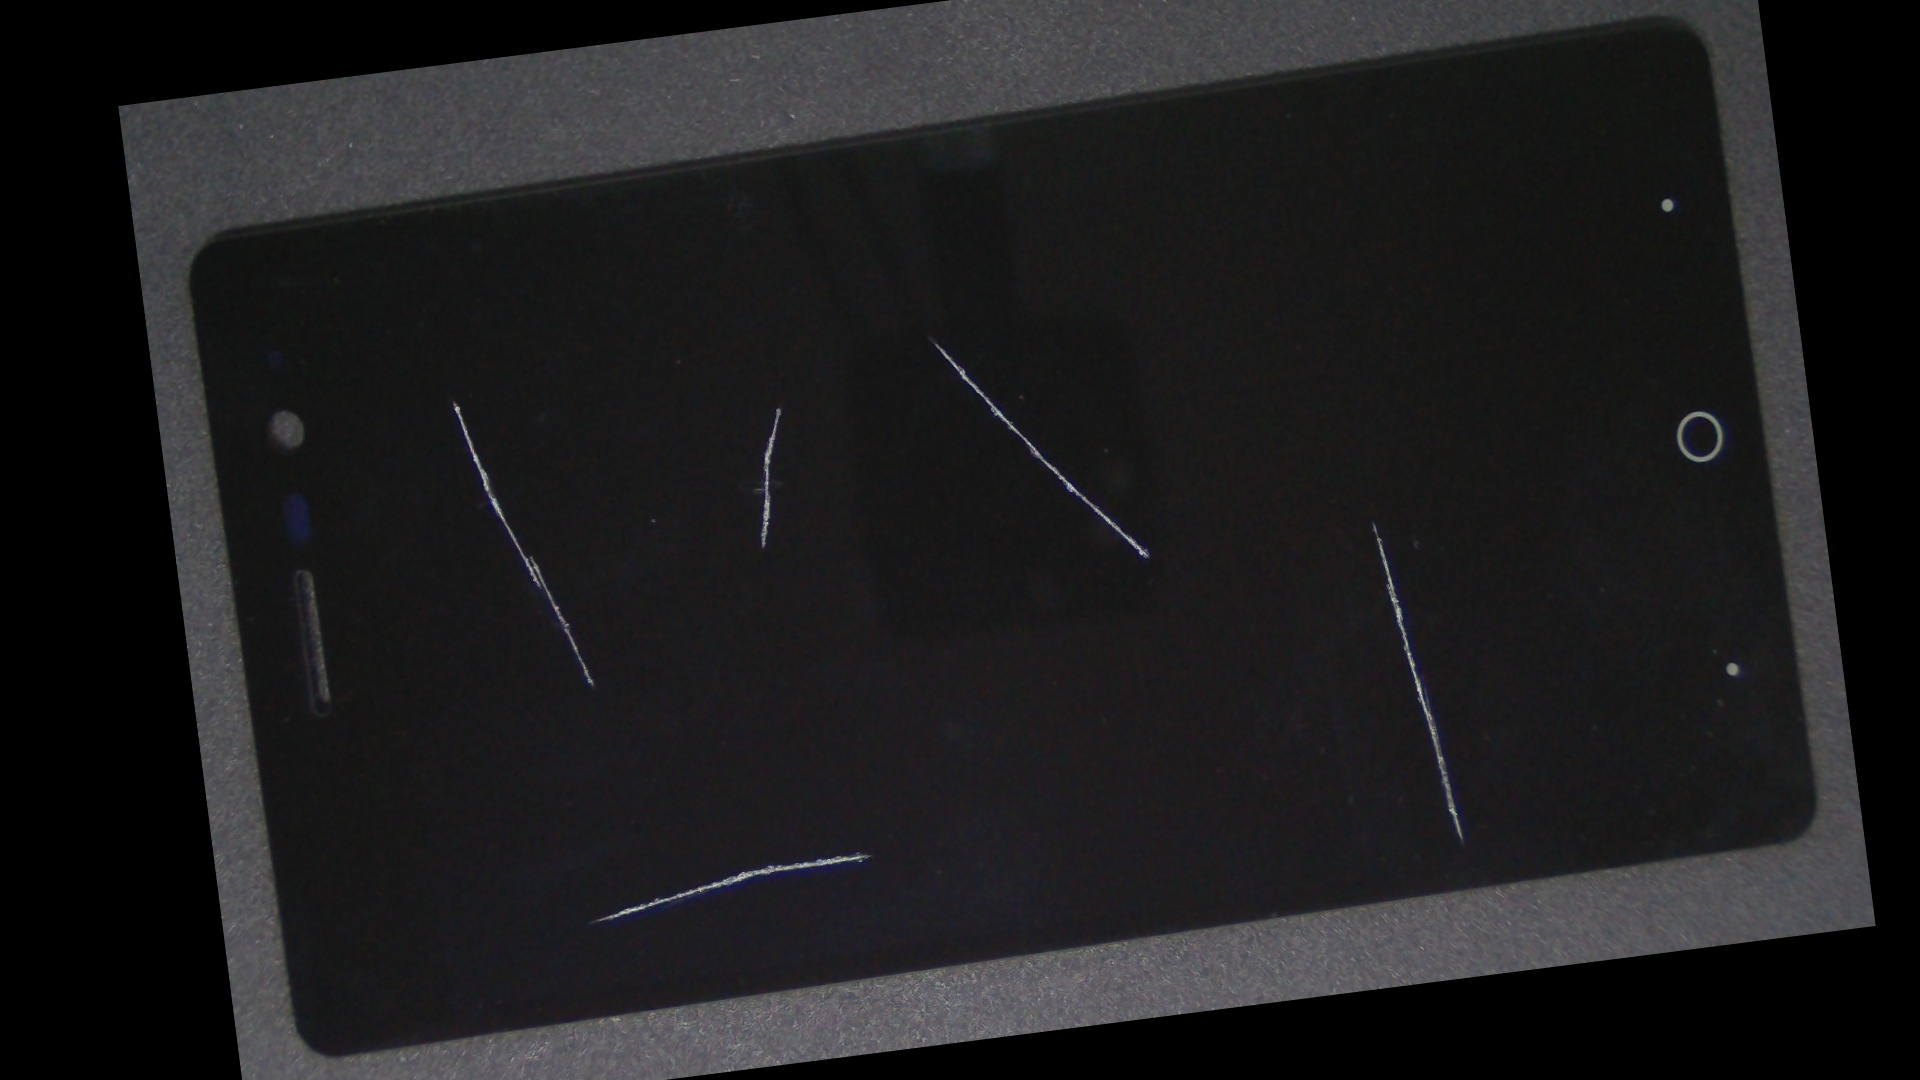oil: (746, 181, 1853, 878), (489, 397, 1203, 1080), (524, 124, 1333, 551), (446, 178, 1104, 637), (285, 211, 620, 588)
